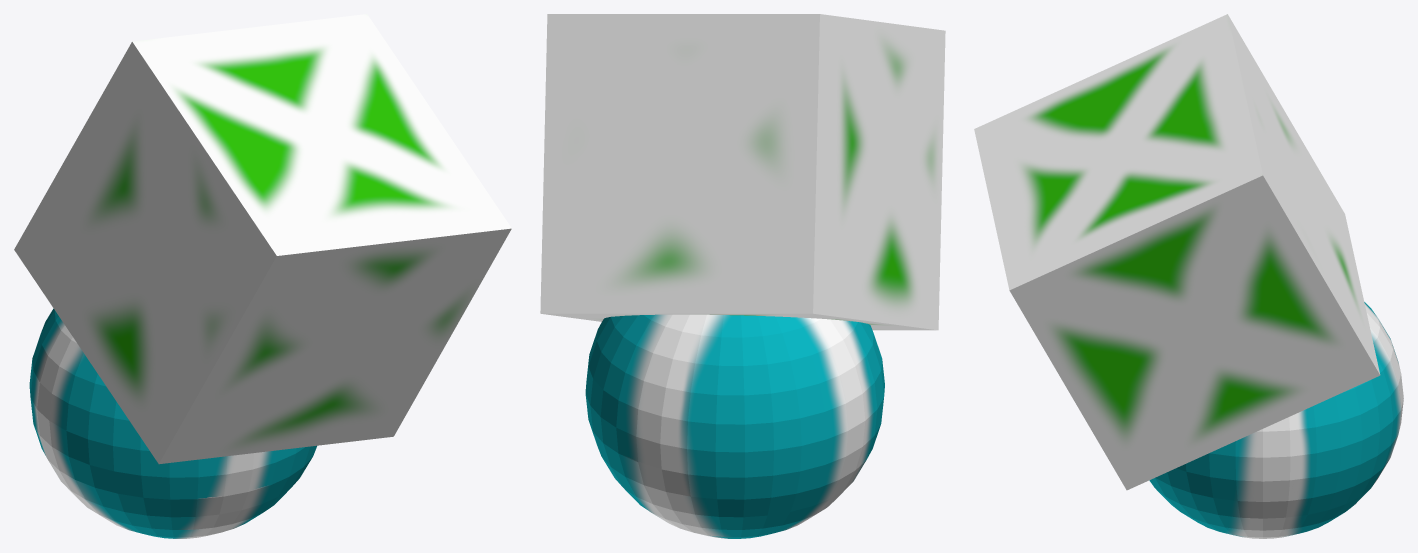
File: dsa.fbx
3 views of the same model, side by side, from view 1: azimuth 30°, elevation 25°; view 2: azimuth 150°, elevation 25°; view 3: azimuth 270°, elevation 25° (orthographic). The views are drawn at different scales.
Visible parts, largest first — view 1: Куб, Сфера; view 2: Куб, Сфера; view 3: Куб, Сфера.
Part boxes in pixels (x1=…): Куб: x1=14, y1=14, x2=511, y2=464; Сфера: x1=29, y1=308, x2=316, y2=538; Куб: x1=540, y1=14, x2=945, y2=330; Сфера: x1=585, y1=314, x2=884, y2=538; Куб: x1=974, y1=14, x2=1380, y2=490; Сфера: x1=1149, y1=302, x2=1403, y2=538.
Bounding box in the file's own units: 252 × 377 × 305.
